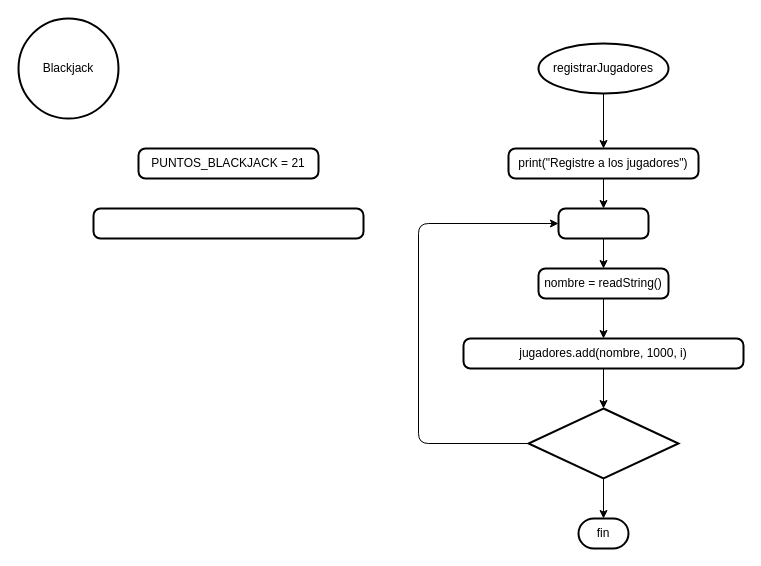
Image size: 761x566. Some labels were removed from this diagram. Here are the shapes that lost their labels. From the top down, the centre of each, then its label:
At pixel 228 223: "this.APUESTA_MINIMA = APUESTA_MINIMA".
At pixel 603 223: "for(i = 0; i++)".
At pixel 603 443: "i < cantidadJugadores".
